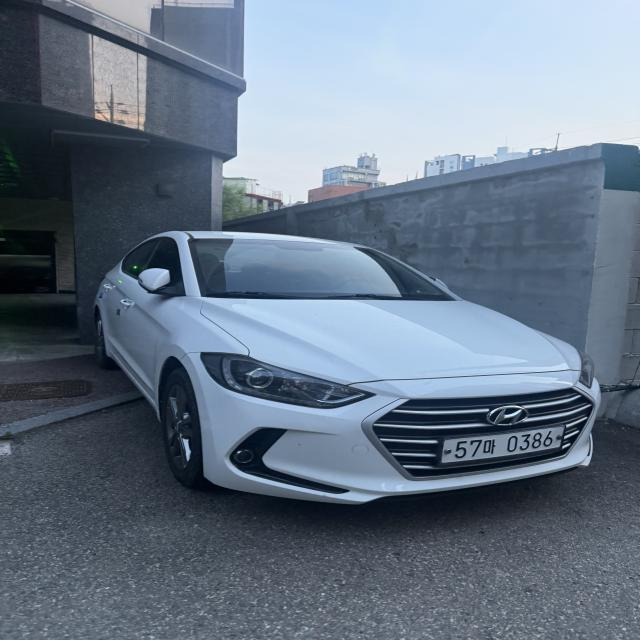car: (75, 208, 612, 538)
